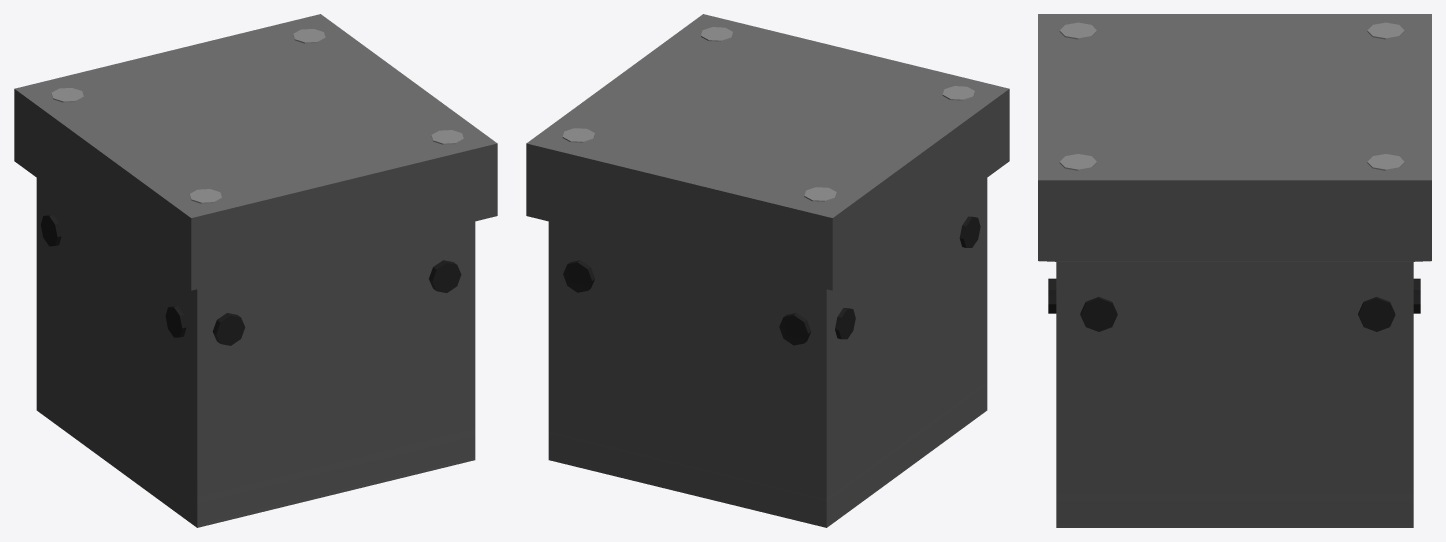
Rendered from PlataformaFechada.glb.
3 views of the same model, side by side, from view 1: azimuth 30°, elevation 25°; view 2: azimuth 150°, elevation 25°; view 3: azimuth 270°, elevation 25° (orthographic). The views are drawn at different scales.
Visible parts, largest first — view 1: PlataformaFechada; view 2: PlataformaFechada; view 3: PlataformaFechada.
Boxes of the visible parts, x1=… form: PlataformaFechada: x1=14, y1=14, x2=497, y2=527; PlataformaFechada: x1=526, y1=14, x2=1009, y2=527; PlataformaFechada: x1=1038, y1=14, x2=1431, y2=527.
Size of the model in its own units: 2 by 2 by 2.
Materials: 1 (1 with a texture image).
